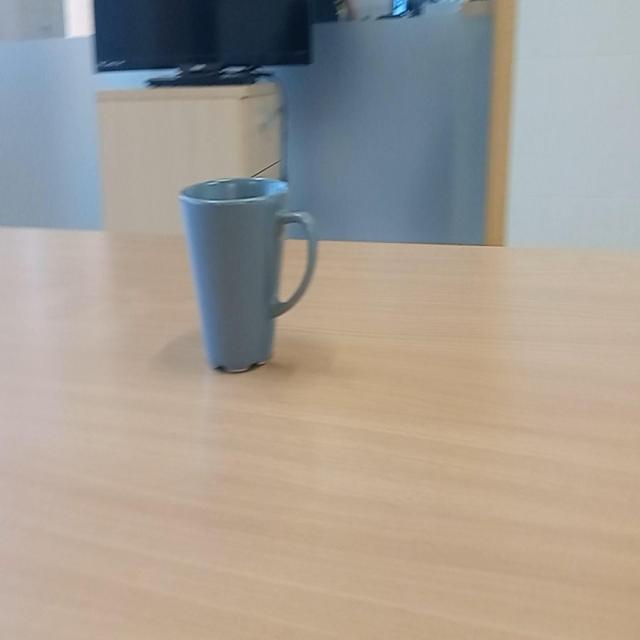cup: (178, 178, 320, 376)
